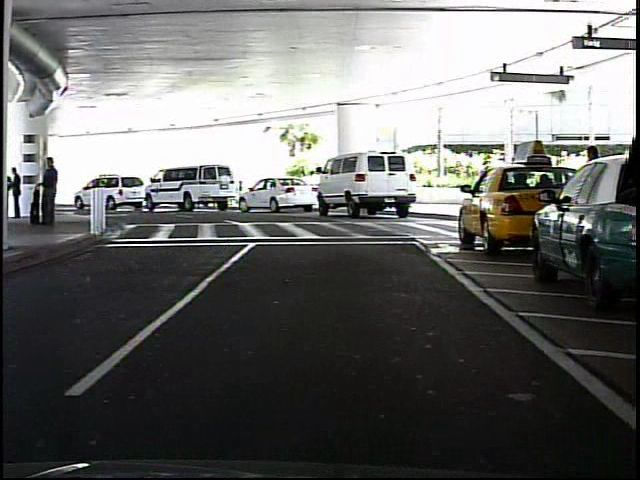person: (579, 143, 606, 244), (43, 155, 62, 228), (7, 161, 28, 224)
